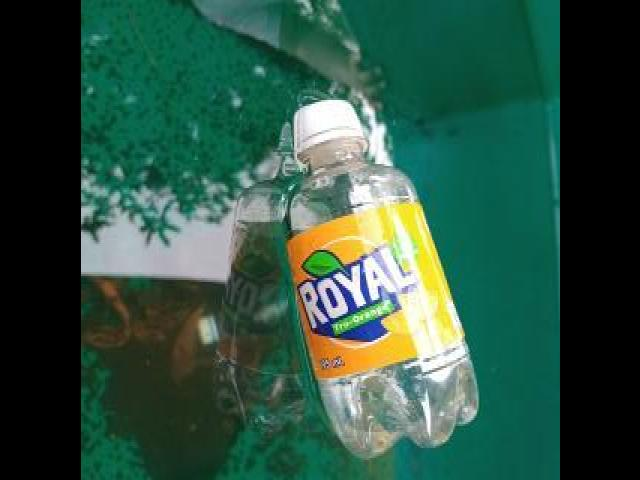Bottle: (280, 87, 481, 468)
